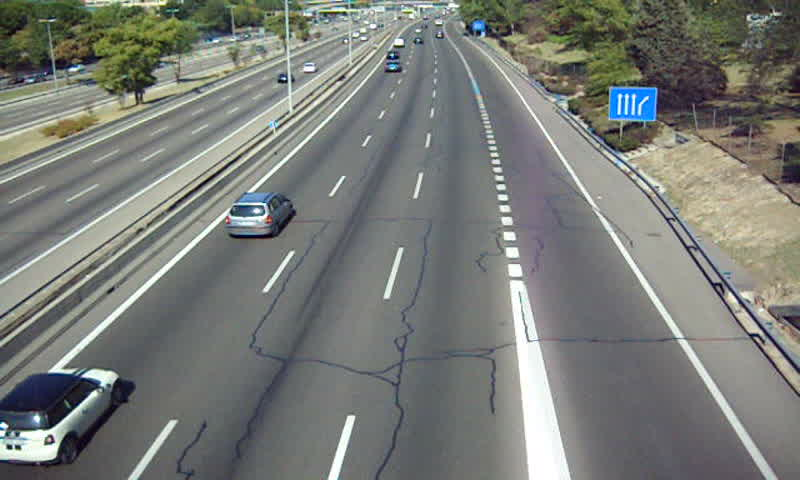car: (1, 368, 124, 465), (225, 192, 293, 239), (383, 60, 404, 74)
